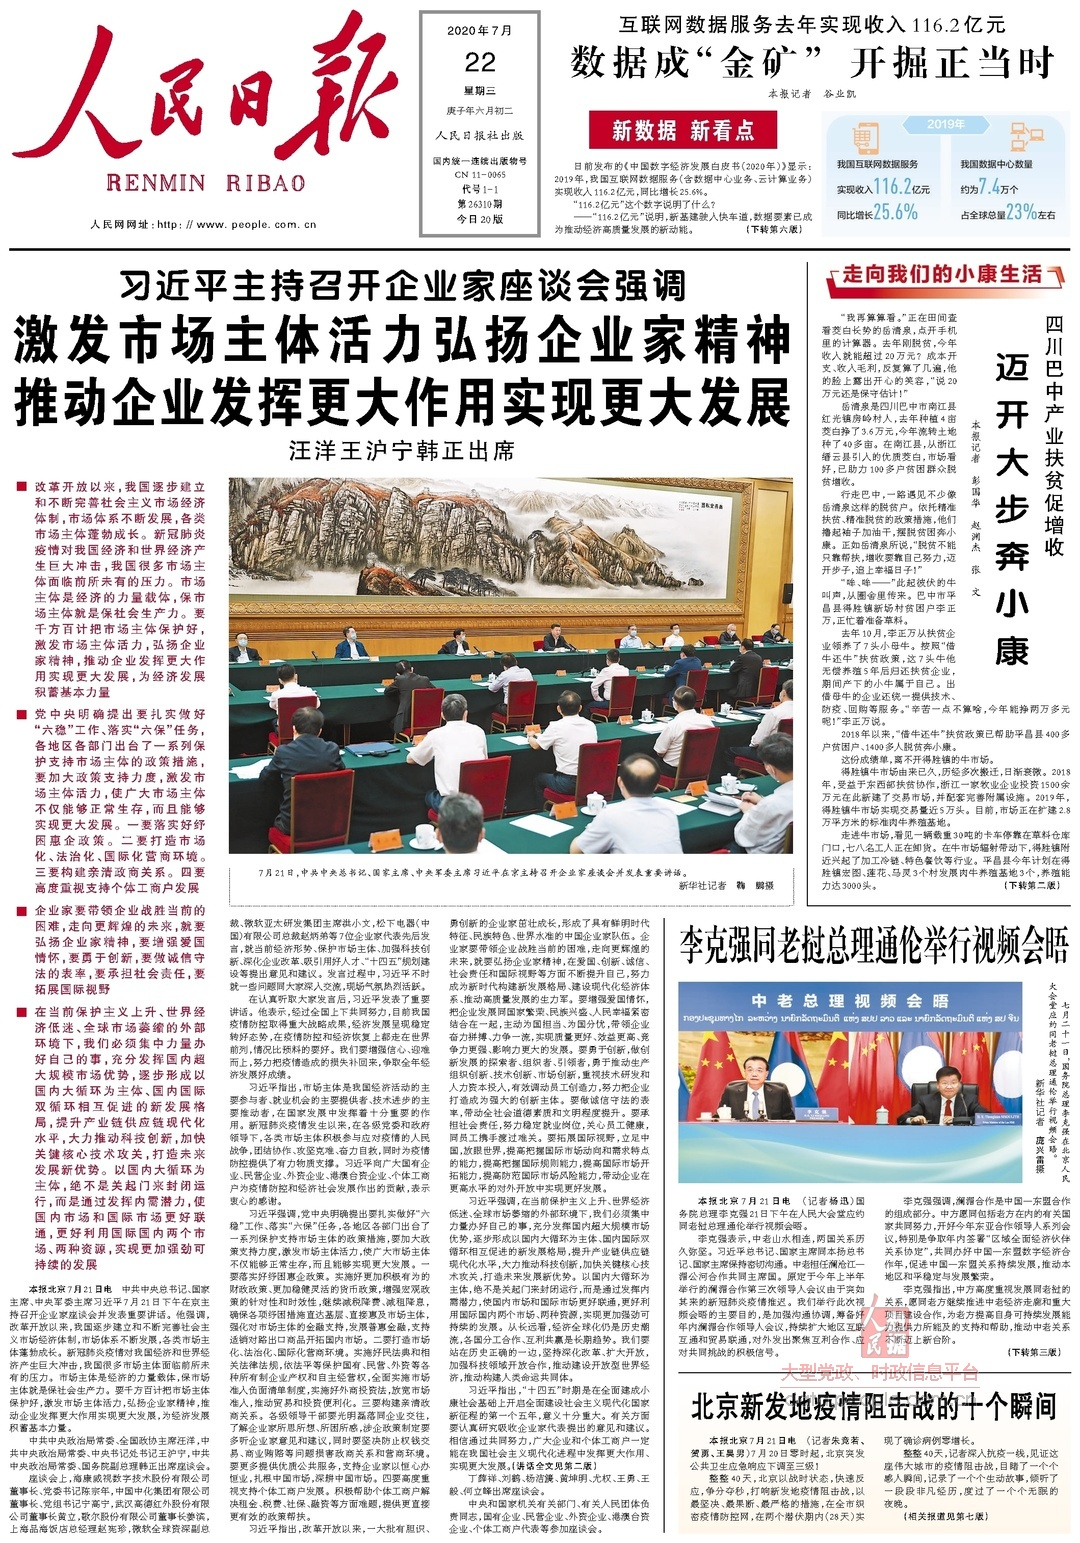pic: (223, 475, 799, 862), (674, 976, 1027, 1188)
